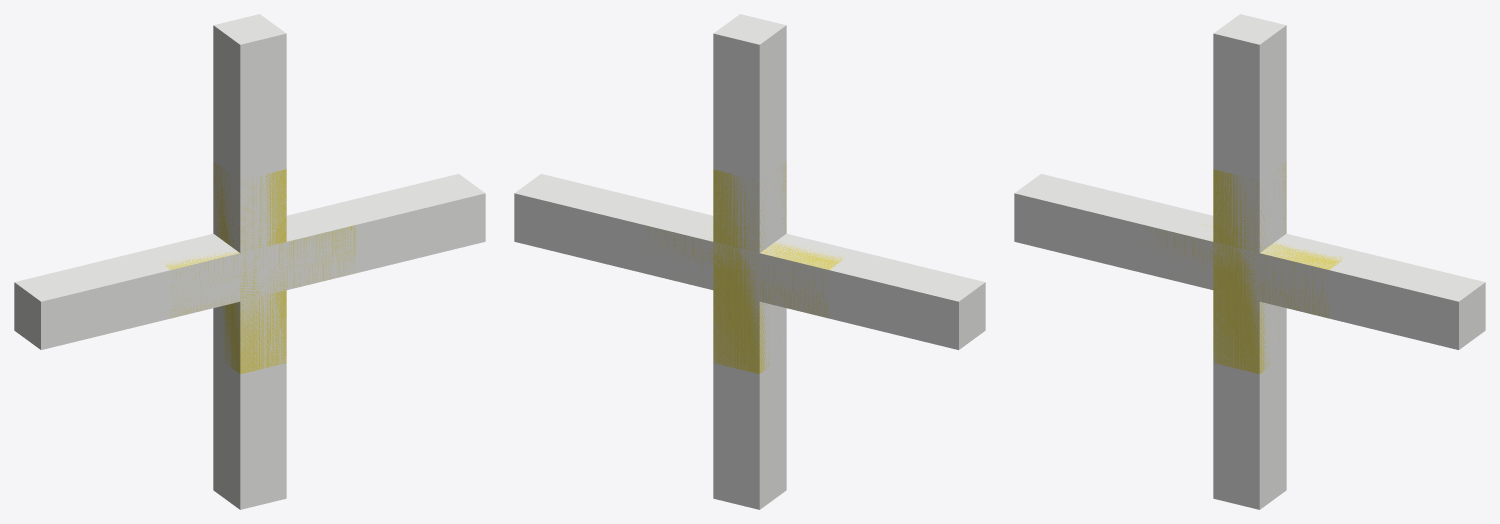
The model's file is fx_camflash.glb.
The picture shows the model from 3 angles, left to right: view 1: azimuth 30°, elevation 25°; view 2: azimuth 150°, elevation 25°; view 3: azimuth 330°, elevation 25°; orthographic projection.
Visible parts, largest first — view 1: fx_camflash; view 2: fx_camflash; view 3: fx_camflash.
Boxes of the visible parts, x1,y1,x2,y2 form: fx_camflash: (14,14,485,509); fx_camflash: (514,14,985,509); fx_camflash: (1014,14,1485,509).
Bounding box in the file's own units: 0.24 × 0.24 × 0.025.
1 material, 1 textured.
